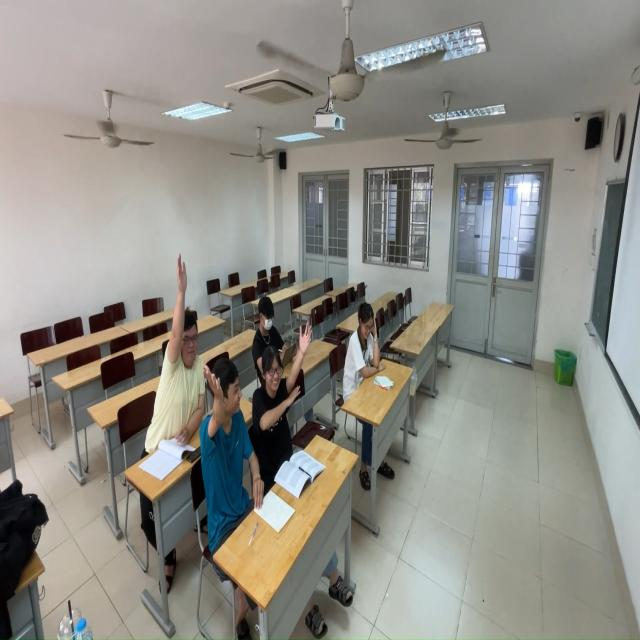raise_hand: (153, 257, 208, 475), (198, 357, 263, 533), (254, 327, 313, 488)
read: (345, 292, 386, 389), (252, 287, 290, 377)
